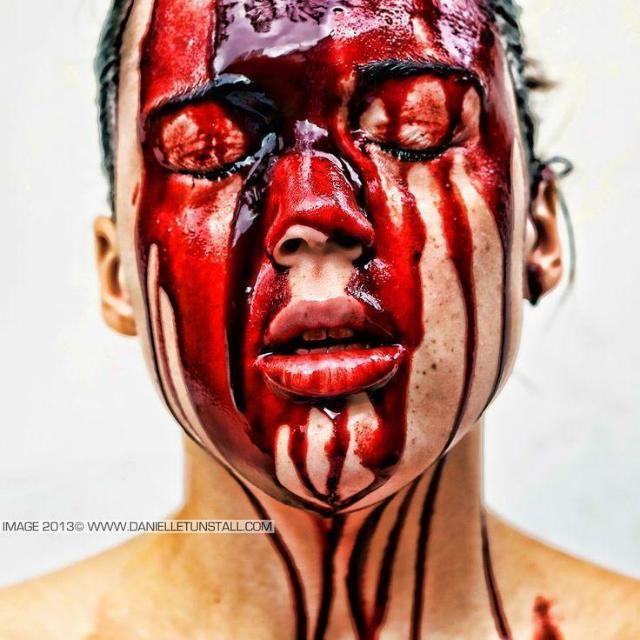blood: (137, 0, 516, 640), (483, 508, 513, 640), (534, 597, 565, 640)
